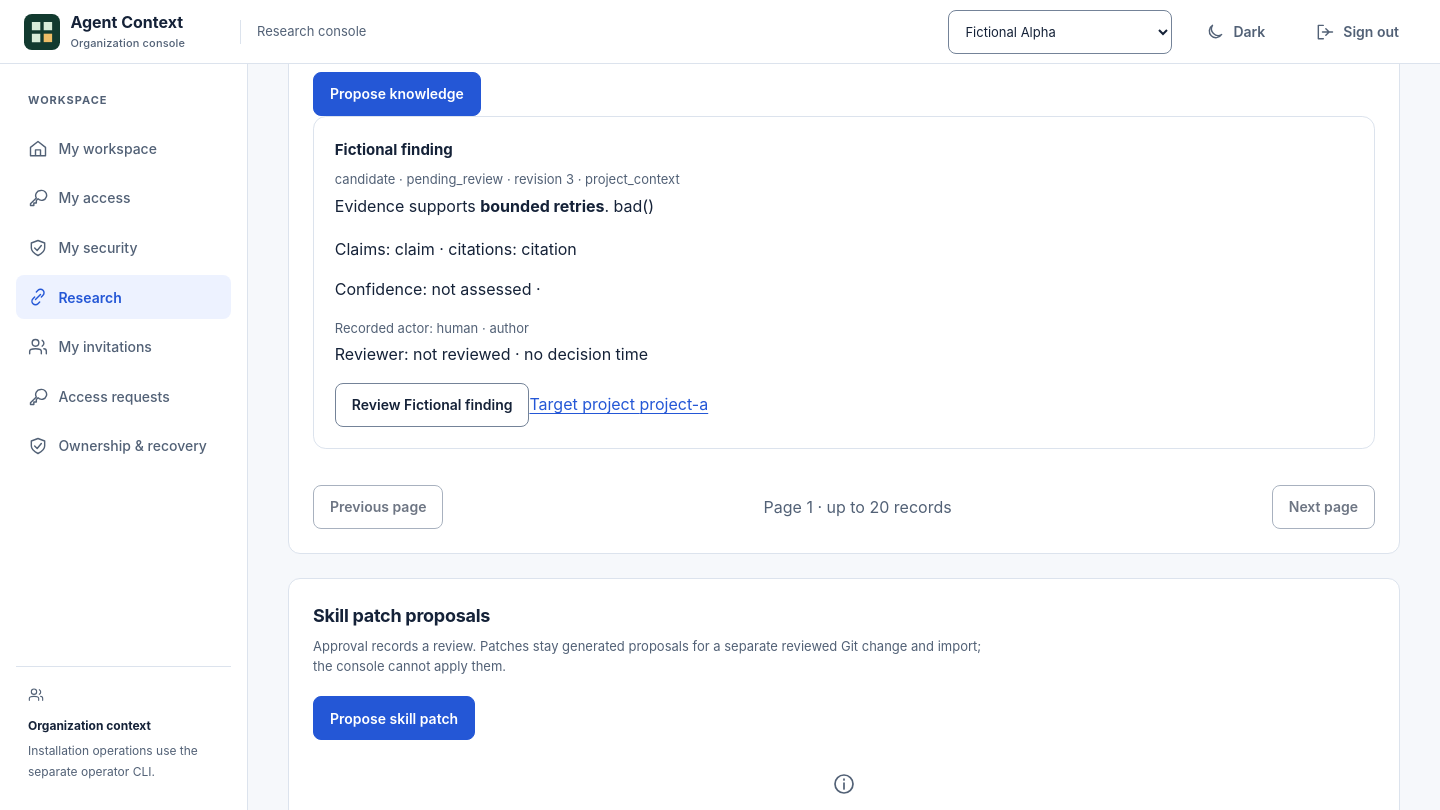
Test case: research review › requires independent authorship even when the UI has approve permissions
(page scrolled)
Step 1. Click the button "Review Fictional finding" → [432, 405], box [335,383,530,427]
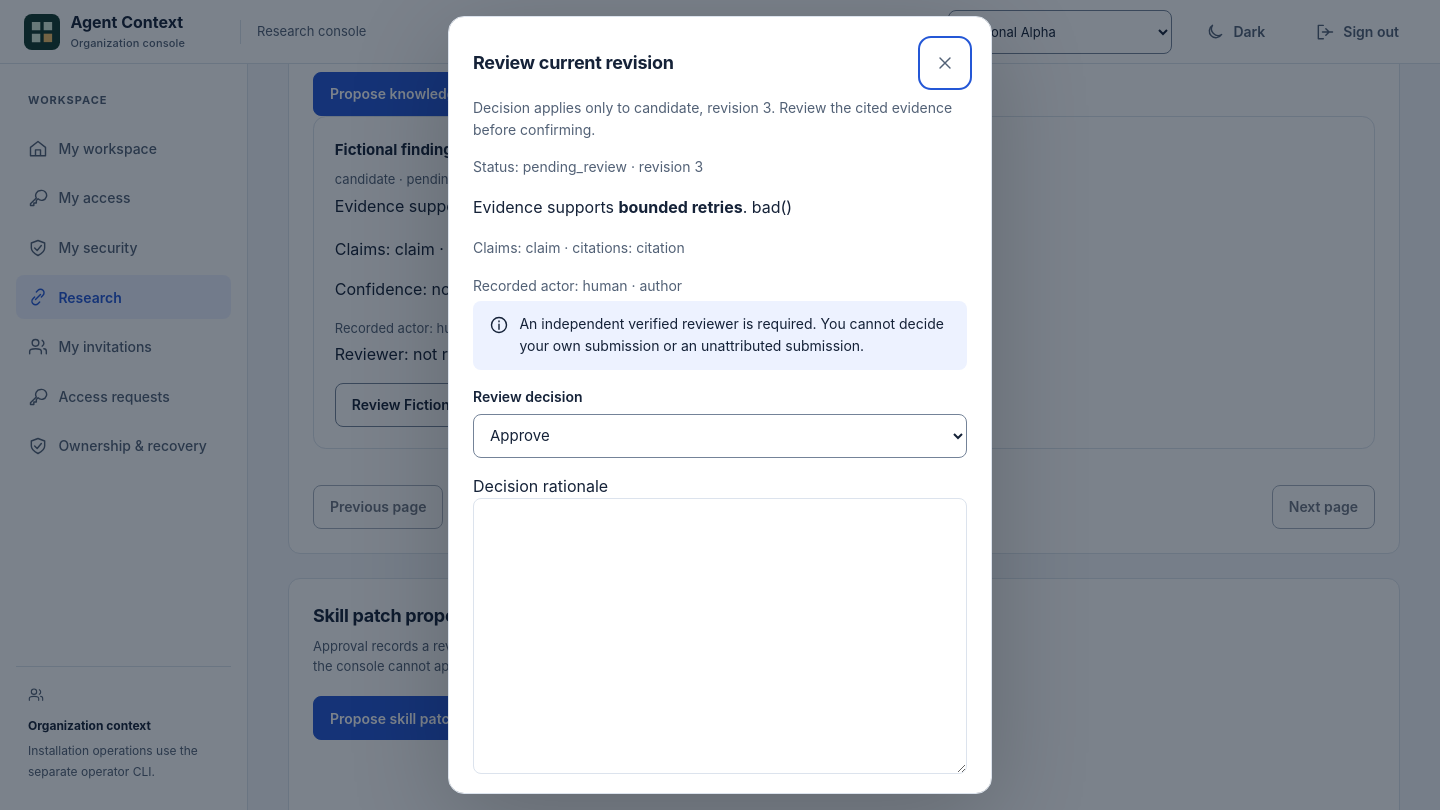
Expected: the text "independent verified reviewer" is shown, [519,315,944,354]
